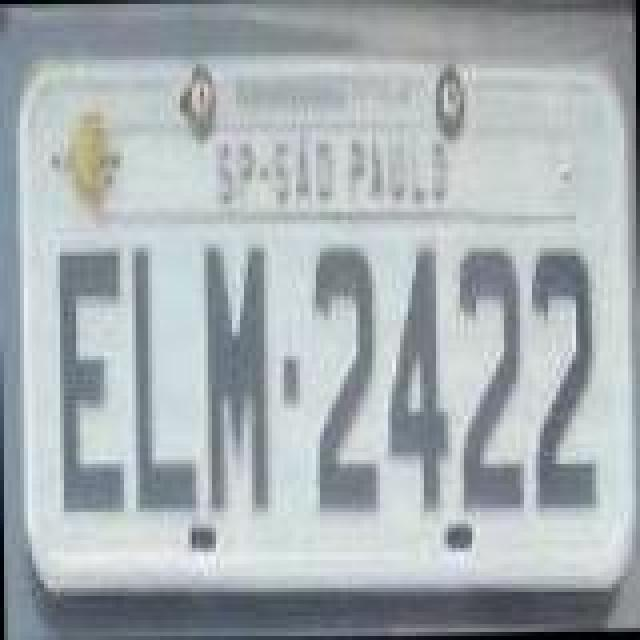2: (312, 246, 380, 518), (456, 248, 524, 512), (528, 244, 596, 508)
4: (386, 244, 450, 516)
E: (56, 248, 124, 520)
L: (134, 250, 198, 514)
M: (204, 244, 272, 516)
